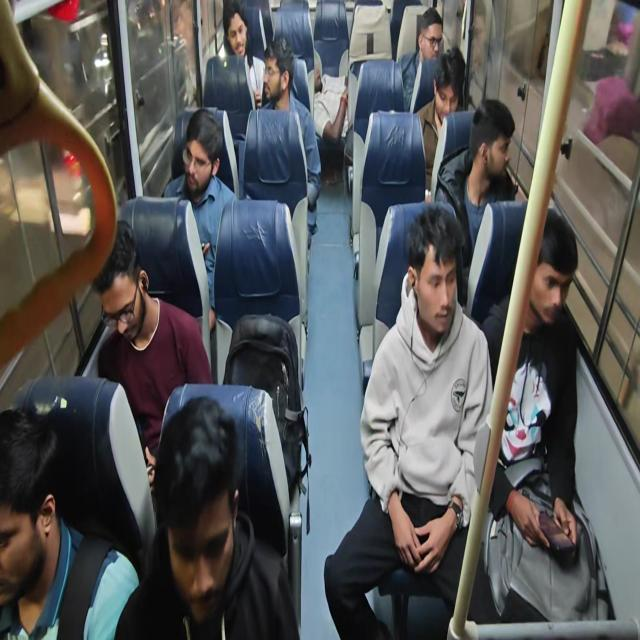person: (160, 432, 238, 589), (0, 417, 62, 584), (404, 234, 474, 330), (520, 209, 567, 347), (157, 126, 213, 194), (473, 98, 517, 184), (102, 260, 152, 324), (205, 0, 254, 59), (437, 56, 468, 118), (264, 42, 298, 98), (424, 16, 442, 59)
